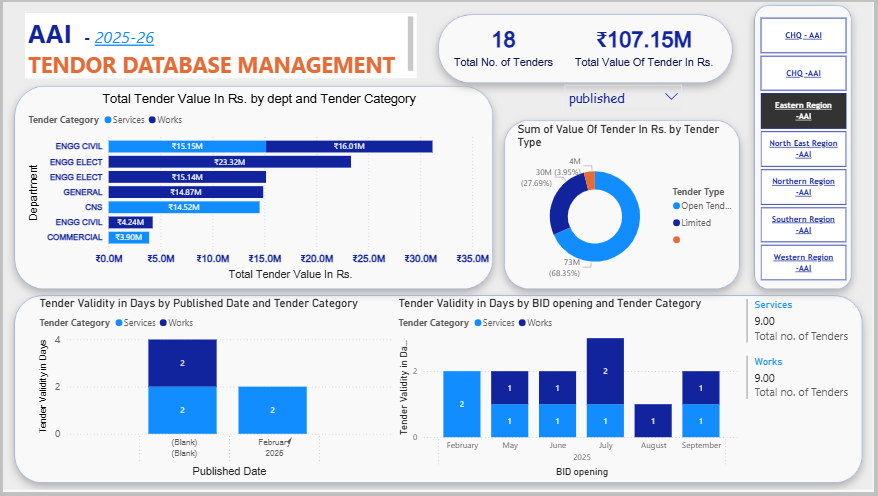

Layout of this report page (visuals, bound fields, positions):
{"tool":"powerbi","page":{"name":"dashboard","canvas":[1280,720],"ordinal":0},"visuals":[{"type":"card","fields":{"Values":["CountNonNull(Append1.Tender ID)"]},"box":[656,16,160,96],"z":0},{"type":"card","fields":{"Values":["Sum(Append1.Value Of Tender In Rs.)"]},"box":[832.4,16.2,220.6,95.6],"z":1000},{"type":"slicer","fields":{"Values":["Append1.region"]},"box":[1088,16,176,400],"z":2000},{"type":"donutChart","fields":{"Y":["Sum(Append1.Value Of Tender In Rs.)"],"Category":["Append1.Tender Type"]},"box":[752,176,336,240],"z":3000},{"type":"columnChart","title":" Tender Validity in Days by Published Date and Tender Category","fields":{"Category":["Append1.Published Date.Variation.Date Hierarchy.Year","Append1.Published Date.Variation.Date Hierarchy.Month"],"Y":["Count(Append1.Tender Validity in Days)"],"Series":["Append1.Tender Category"]},"box":[48,432,528,272],"z":4000},{"type":"slicer","fields":{"Values":["Tender.Tender"]},"box":[816,112,192,48],"z":5000},{"type":"multiRowCard","fields":{"Values":["Append1.Tender Category","Append1.Total no. of Tenders"]},"box":[1088,432,176,256],"z":6000},{"type":"columnChart","title":" Tender Validity in Days by BID opening and Tender Category","fields":{"Category":["Append1.Bid Opening Date.Variation.Date Hierarchy.Year","Append1.Bid Opening Date.Variation.Date Hierarchy.Month"],"Y":["Count(Append1.Tender Validity in Days)"],"Series":["Append1.Tender Category"]},"box":[576,432,512,272],"z":7000},{"type":"barChart","fields":{"Category":["Append1.dept"],"Y":["Sum(Append1.Value Of Tender In Rs.)"],"Series":["Append1.Tender Category"]},"box":[32,128,688,288],"z":8000},{"type":"textbox","box":[32,16,576,96],"z":9000}]}

Visuals, with their boxes in screenshot pixels (x1, y1, x2, y2), scaled from the page's 1280x720 canvas onto the 878x496 screenshot:
card - CountNonNull(Append1.Tender ID): box=[450, 11, 560, 77]
card - Sum(Append1.Value Of Tender In Rs.): box=[571, 11, 722, 77]
slicer - Append1.region: box=[746, 11, 867, 287]
donutChart - Sum(Append1.Value Of Tender In Rs.) x Append1.Tender Type: box=[516, 121, 746, 287]
" Tender Validity in Days by Published Date and Tender Category" columnChart: box=[33, 298, 395, 485]
slicer - Tender.Tender: box=[560, 77, 691, 110]
multiRowCard - Append1.Tender Category x Append1.Total no. of Tenders: box=[746, 298, 867, 474]
" Tender Validity in Days by BID opening and Tender Category" columnChart: box=[395, 298, 746, 485]
barChart - Append1.dept x Sum(Append1.Value Of Tender In Rs.): box=[22, 88, 494, 287]
textbox: box=[22, 11, 417, 77]
